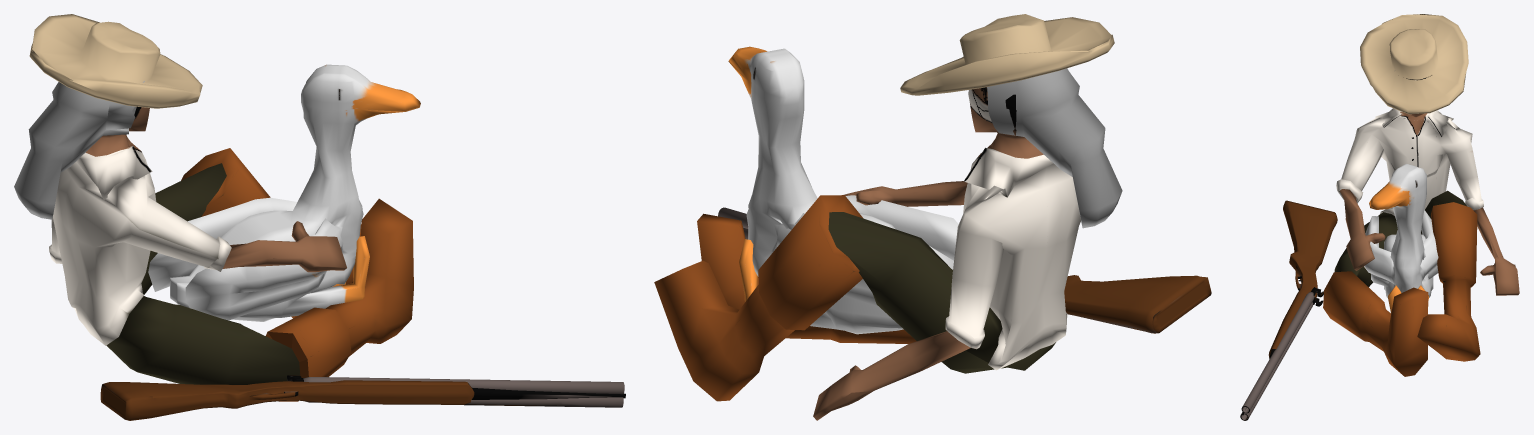
The model's file is bowmari_0.obj.
3 renders of one model, left to right at view 1: azimuth 30°, elevation 25°; view 2: azimuth 150°, elevation 25°; view 3: azimuth 270°, elevation 25°, orthographic. The views are drawn at different scales.
Visible parts, largest first — view 1: Default_Body_Cube, Cube.005, SHOTGUN_Cube.007, Hat_Cylinder, Hair_Cube.004; view 2: Default_Body_Cube, Cube.005, Hair_Cube.004, Hat_Cylinder, SHOTGUN_Cube.007; view 3: Default_Body_Cube, Hat_Cylinder, Cube.005, SHOTGUN_Cube.007.
Part boxes in pixels (left/top/right/bottom): Default_Body_Cube: left=49, top=106, right=413, bottom=401; Cube.005: left=148, top=64, right=420, bottom=321; SHOTGUN_Cube.007: left=100, top=375, right=625, bottom=420; Hat_Cylinder: left=29, top=14, right=202, bottom=108; Hair_Cube.004: left=14, top=81, right=144, bottom=219; Default_Body_Cube: left=654, top=87, right=1080, bottom=420; Cube.005: left=728, top=46, right=958, bottom=334; Hair_Cube.004: left=987, top=68, right=1122, bottom=228; Hat_Cylinder: left=900, top=14, right=1114, bottom=95; SHOTGUN_Cube.007: left=718, top=207, right=1211, bottom=333; Default_Body_Cube: left=1323, top=80, right=1519, bottom=376; Hat_Cylinder: left=1360, top=14, right=1468, bottom=114; Cube.005: left=1364, top=163, right=1438, bottom=313; SHOTGUN_Cube.007: left=1240, top=200, right=1337, bottom=420.
Bounding box in the file's own units: 6.91 × 5.23 × 5.1.
